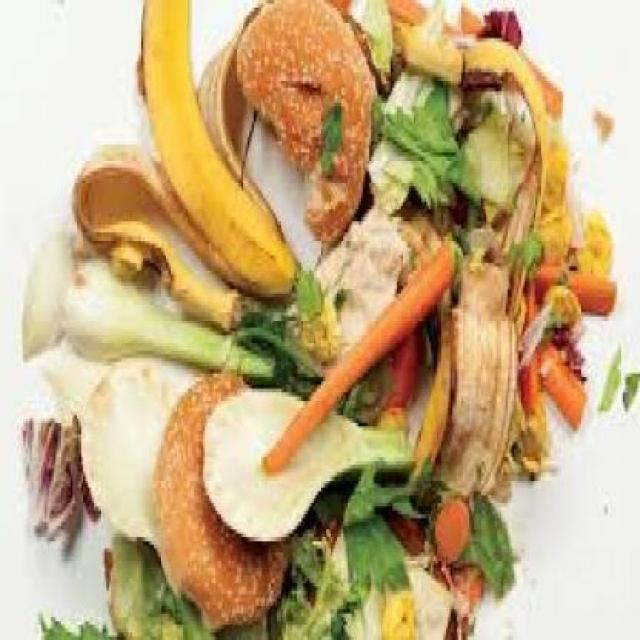garbage: (11, 8, 585, 614)
